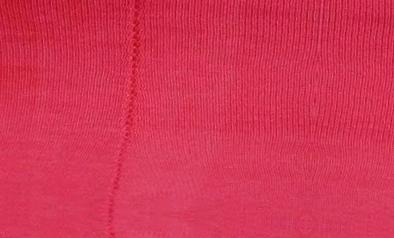slub: (99, 2, 149, 237)
